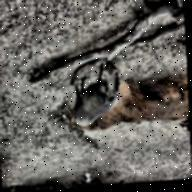boar: (67, 67, 139, 146)
